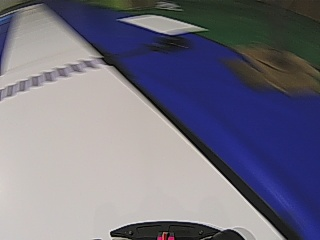CrossWalk: (0, 55, 112, 101)
